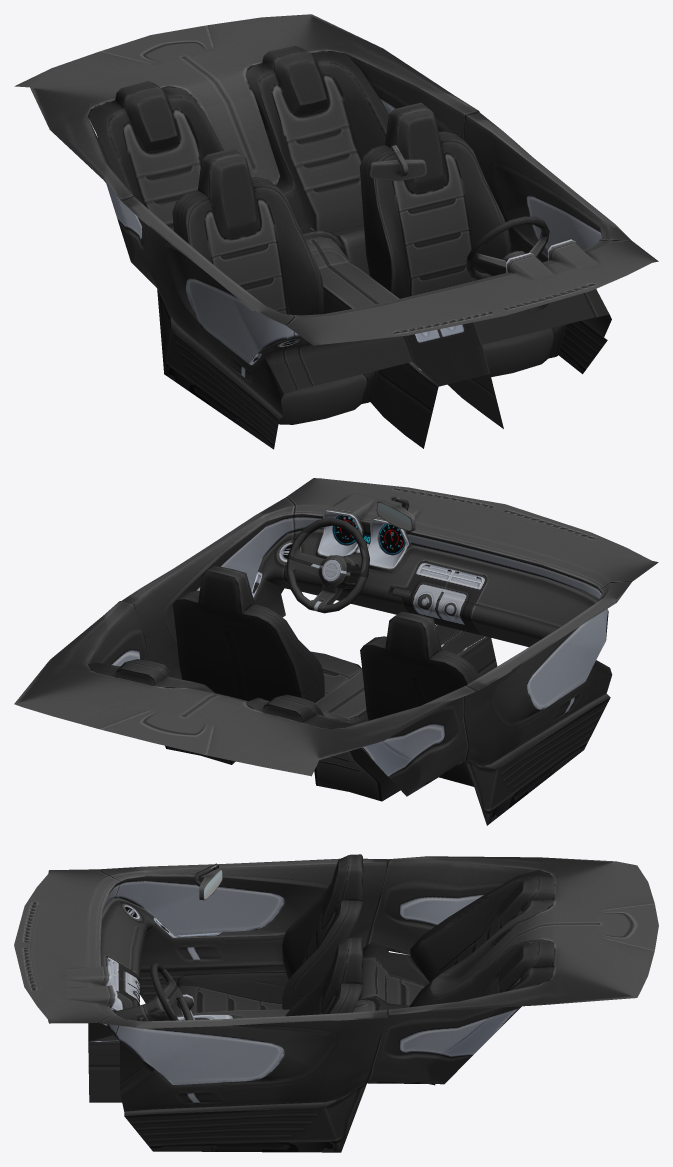
Rendered from Car_13_Interior.FBX.
3 views of the same model, one above another, from view 1: azimuth 30°, elevation 25°; view 2: azimuth 150°, elevation 25°; view 3: azimuth 270°, elevation 25° (orthographic). The views are drawn at different scales.
Visible parts, largest first — view 1: Car_13_Interior_B; view 2: Car_13_Interior_B; view 3: Car_13_Interior_B.
Boxes of the visible parts, x1,y1,x2,y2 form: Car_13_Interior_B: (14, 14, 658, 449); Car_13_Interior_B: (14, 478, 658, 825); Car_13_Interior_B: (14, 854, 658, 1152).
Bounding box in the file's own units: 1.61 × 2.72 × 1.03.
